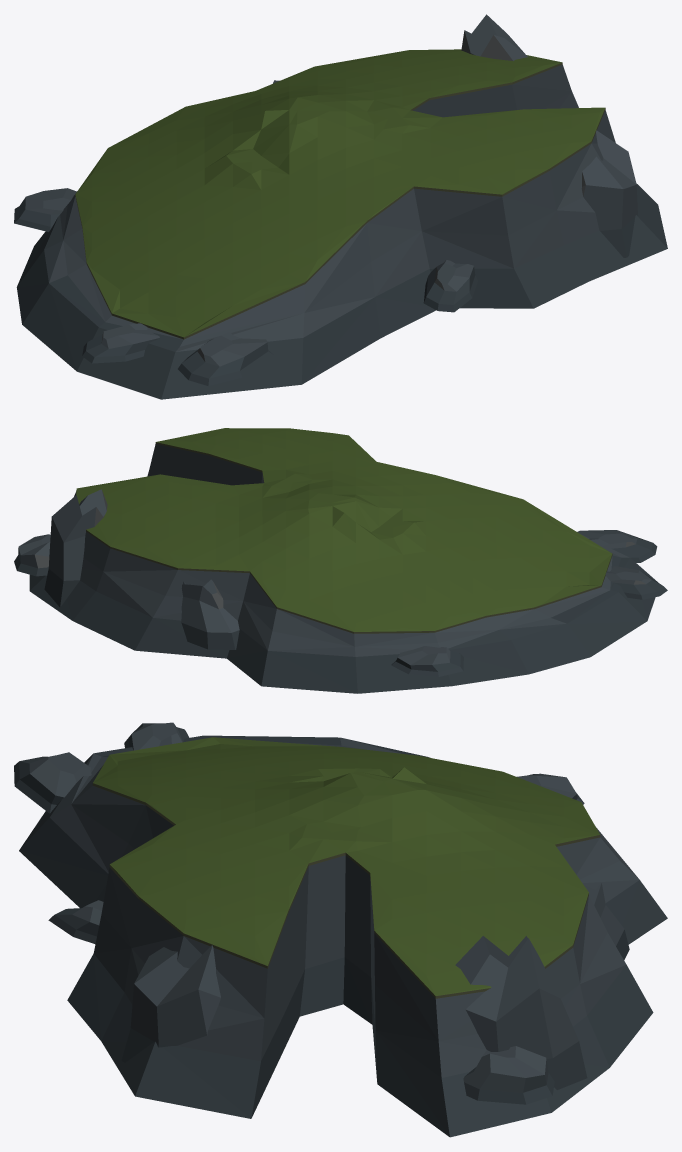
Rendered from island_a.glb.
3 renders of one model, top to bottom at view 1: azimuth 30°, elevation 25°; view 2: azimuth 150°, elevation 25°; view 3: azimuth 270°, elevation 25°, orthographic. The views are drawn at different scales.
Parts seen in each view (by area): view 1: island_a_Coast short olive grass, island_a_Coast blue grey bedrock; view 2: island_a_Coast short olive grass, island_a_Coast blue grey bedrock; view 3: island_a_Coast blue grey bedrock, island_a_Coast short olive grass.
Part boxes in pixels (x1=…): island_a_Coast short olive grass: x1=75, y1=49, x2=605, y2=339; island_a_Coast blue grey bedrock: x1=14, y1=14, x2=667, y2=399; island_a_Coast short olive grass: x1=76, y1=428, x2=612, y2=633; island_a_Coast blue grey bedrock: x1=14, y1=444, x2=667, y2=693; island_a_Coast blue grey bedrock: x1=14, y1=722, x2=667, y2=1137; island_a_Coast short olive grass: x1=92, y1=737, x2=600, y2=998.
Size of the model in its own units: 205 by 39.15 by 148.
